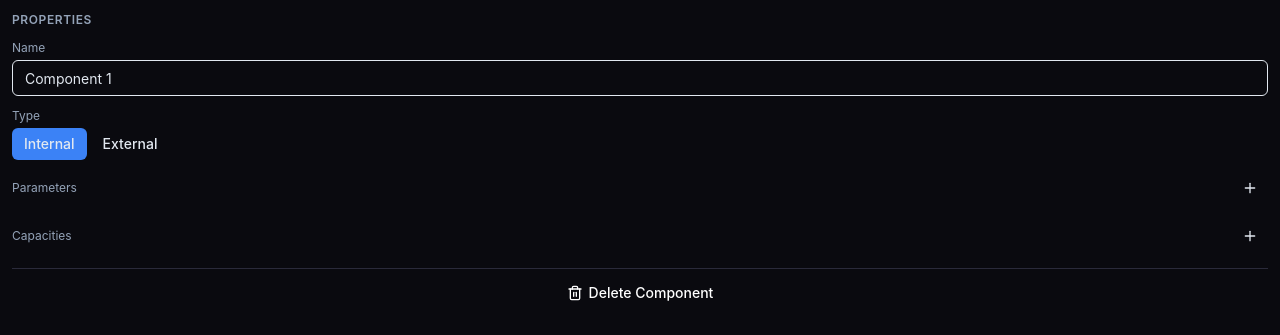
Test case: PropertyEditor › shows error when component name is cleared to empty
This screenshot has width=1280, height=335.
Clear the field with test id "property-name": [640, 78] box x1=12 y1=60 x2=1268 y2=96
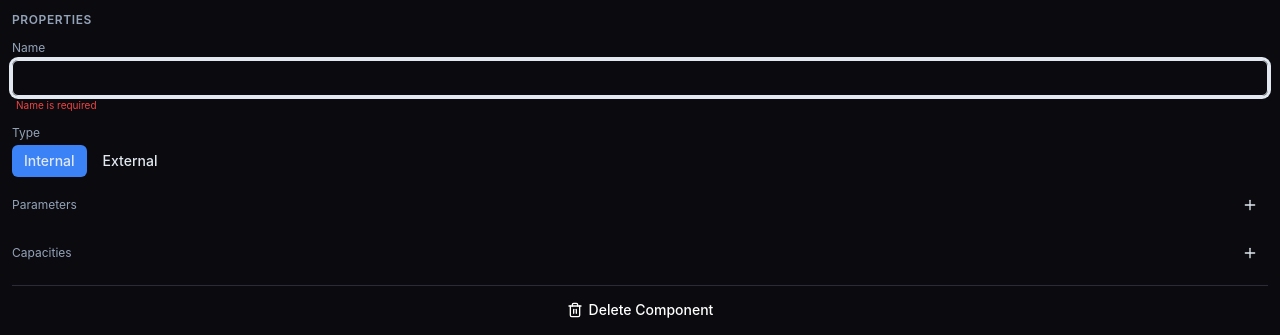
Check: the text with test id "name-error" shows "required", box x1=16 y1=99 x2=96 y2=111
